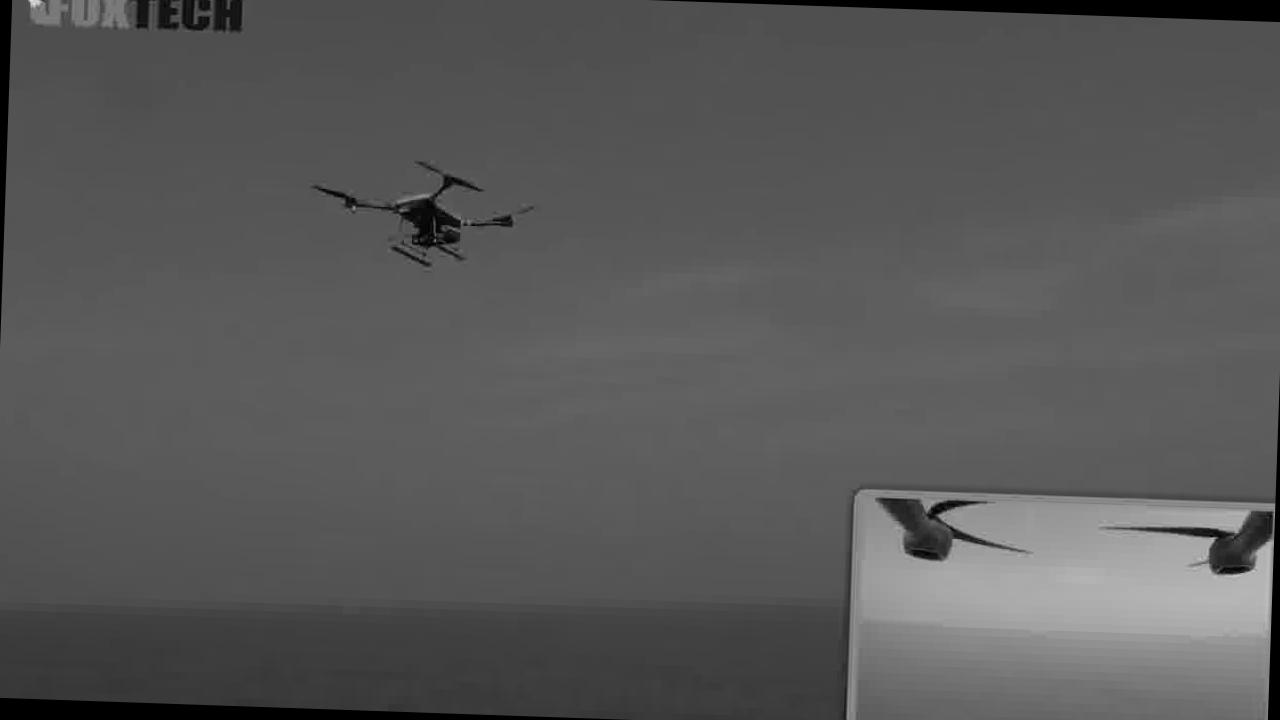drone: (280, 142, 530, 286)
